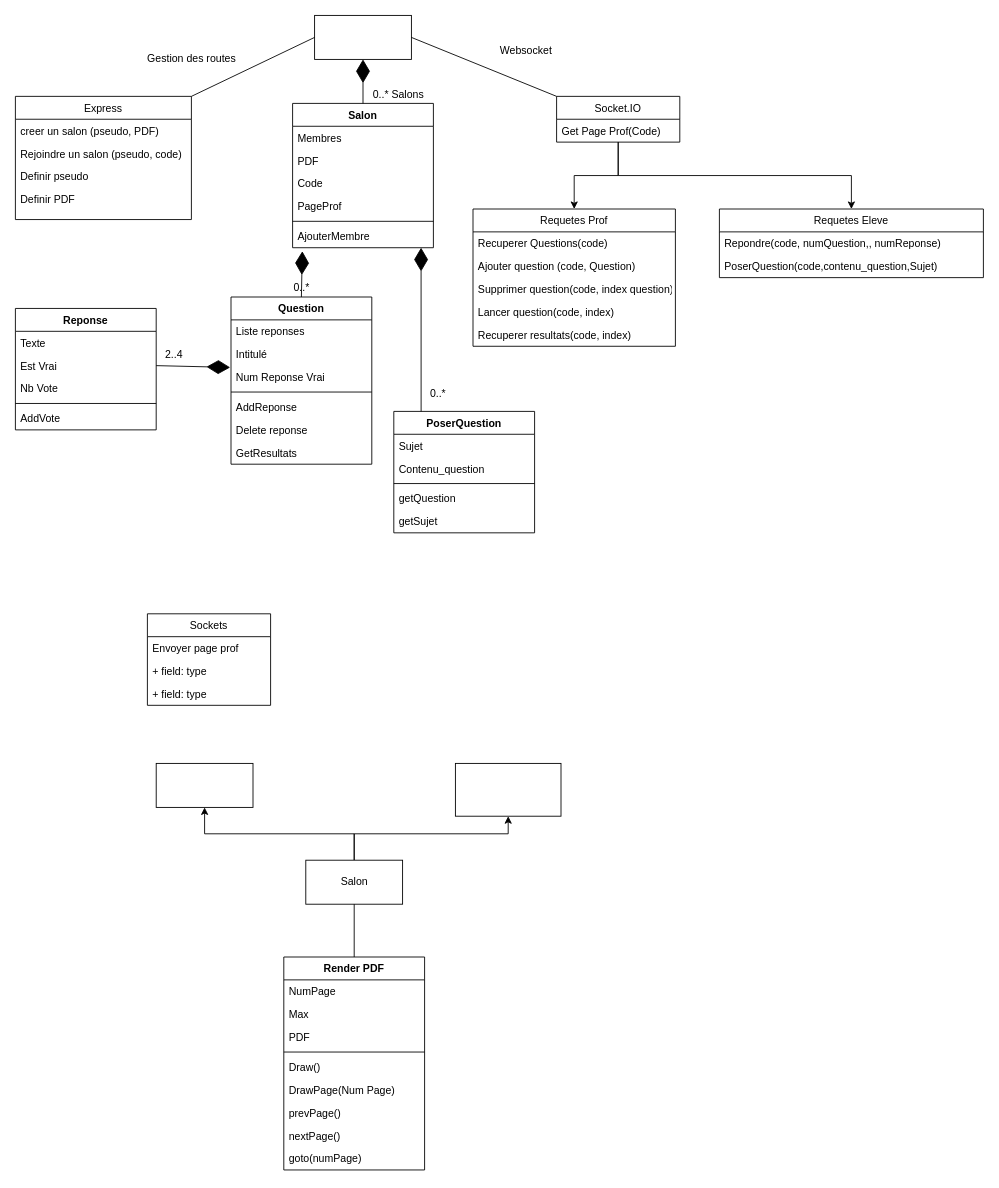
Image size: 999x1188. Some labels were removed from this diagram. The centre of each missing label's shape, as x and y in pixels:
"Salon Eleve" goes at pixel 508 789.
"Salon Prof" goes at pixel 204 785.
"Serveur" goes at pixel 362 37.
